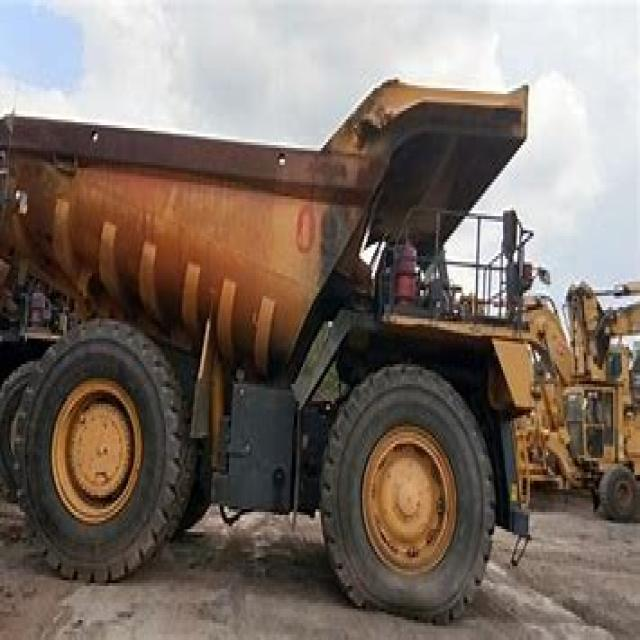dump_truck: (12, 48, 532, 614)
